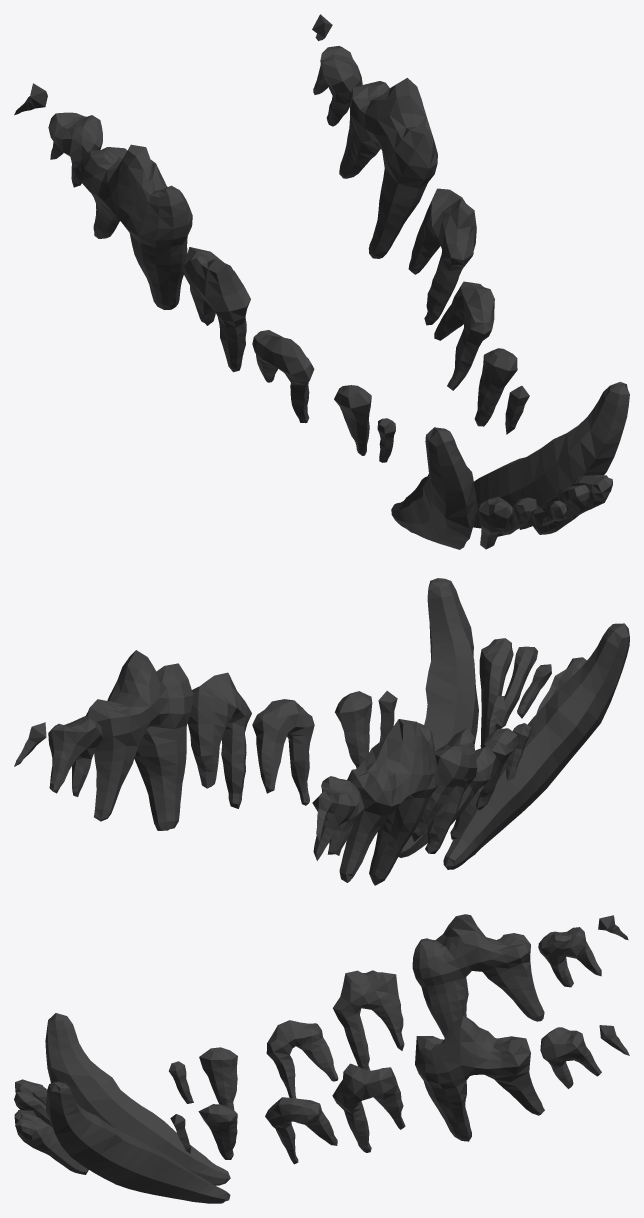
Rendered from Mandibular_teeth.glb.
3 views of the same model, one above another, from view 1: azimuth 30°, elevation 25°; view 2: azimuth 150°, elevation 25°; view 3: azimuth 270°, elevation 25° (orthographic). The views are drawn at different scales.
Parts seen in each view (by area): view 1: Mandibular_teeth; view 2: Mandibular_teeth; view 3: Mandibular_teeth.
Part boxes in pixels (<box>): Mandibular_teeth: <box>14,14,629,549</box>; Mandibular_teeth: <box>14,578,629,885</box>; Mandibular_teeth: <box>14,914,629,1203</box>.
Size of the model in its own units: 2.62 by 2.36 by 5.7.
Materials: 1 (1 with a texture image).
